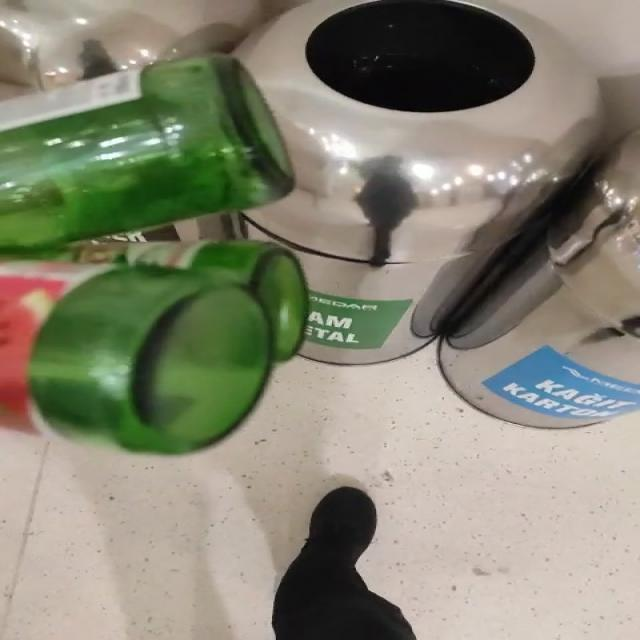Bin: (236, 0, 640, 428), (233, 0, 600, 365)
Glass: (0, 55, 308, 455)
